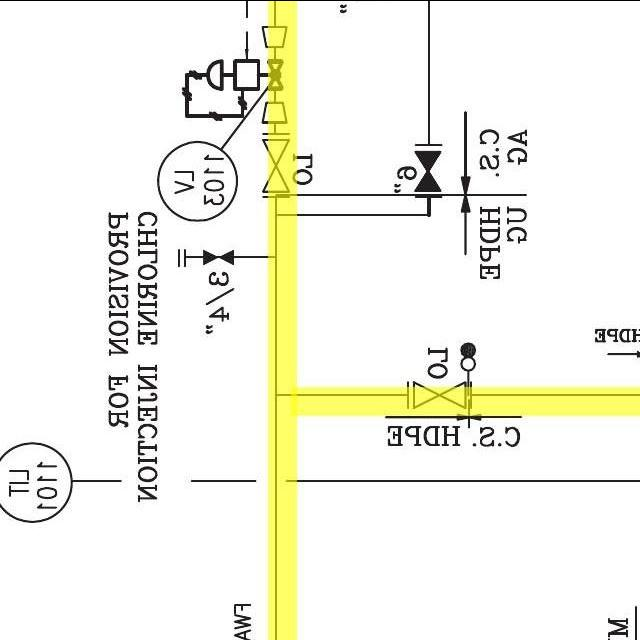CBV: (178, 56, 285, 121)
GV: (401, 372, 476, 418), (256, 131, 292, 201)
SP: (260, 20, 290, 51), (262, 98, 288, 126)
